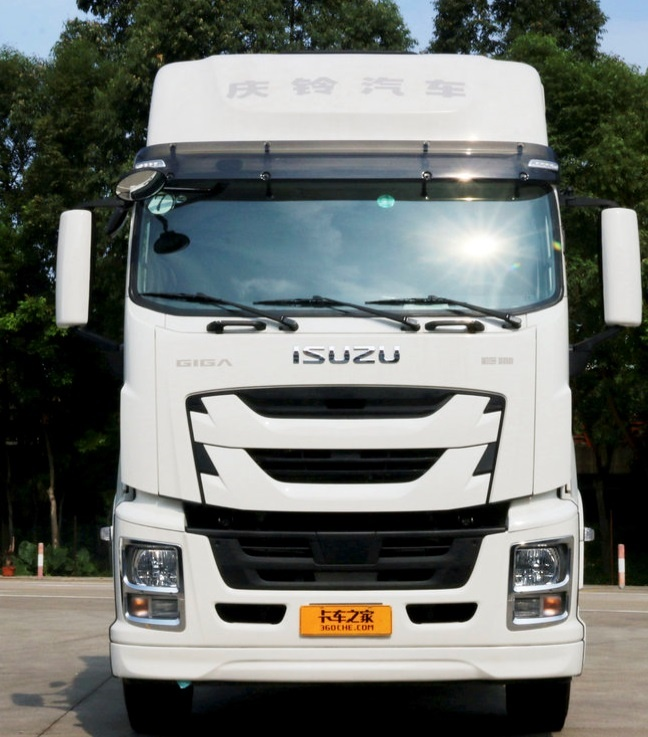heavy truck: (57, 41, 632, 723)
